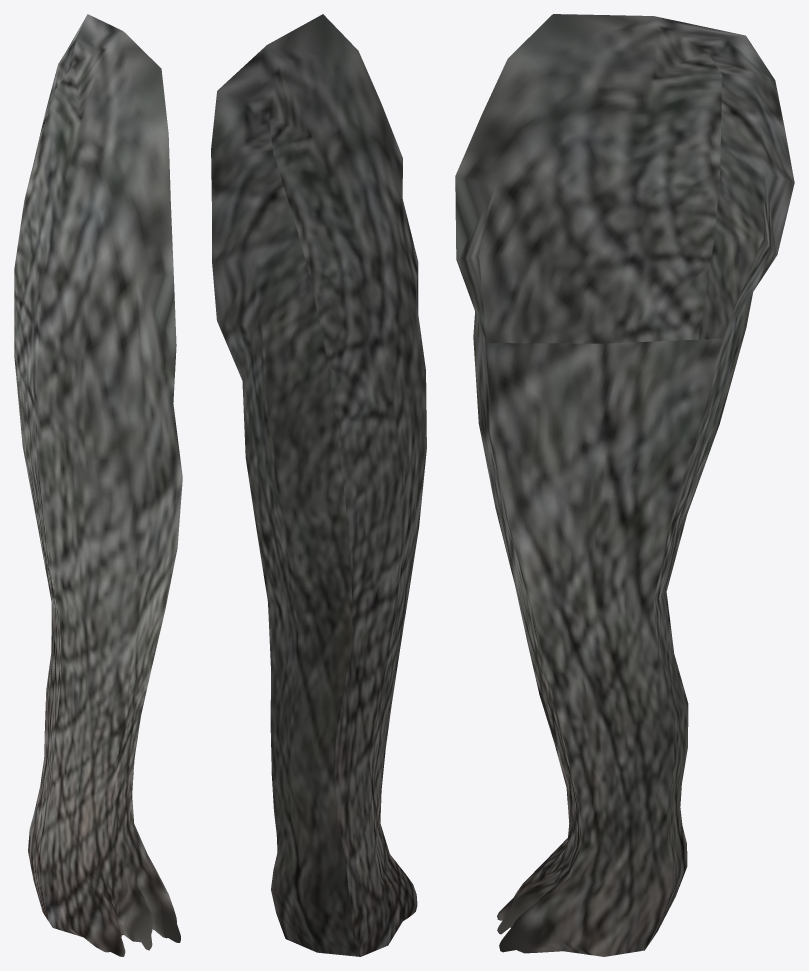
Rendered from piernaTD.obj.
3 renders of one model, left to right at view 1: azimuth 30°, elevation 25°; view 2: azimuth 150°, elevation 25°; view 3: azimuth 270°, elevation 25°, orthographic. The views are drawn at different scales.
Visible parts, largest first — view 1: PiernaTD; view 2: PiernaTD; view 3: PiernaTD.
Boxes of the visible parts, x1=… form: PiernaTD: x1=14, y1=14, x2=182, y2=956; PiernaTD: x1=211, y1=14, x2=426, y2=956; PiernaTD: x1=455, y1=14, x2=794, y2=956.
Bounding box in the file's own units: 0.4802 × 3.44 × 1.12.
Materials: 1 (1 with a texture image).
